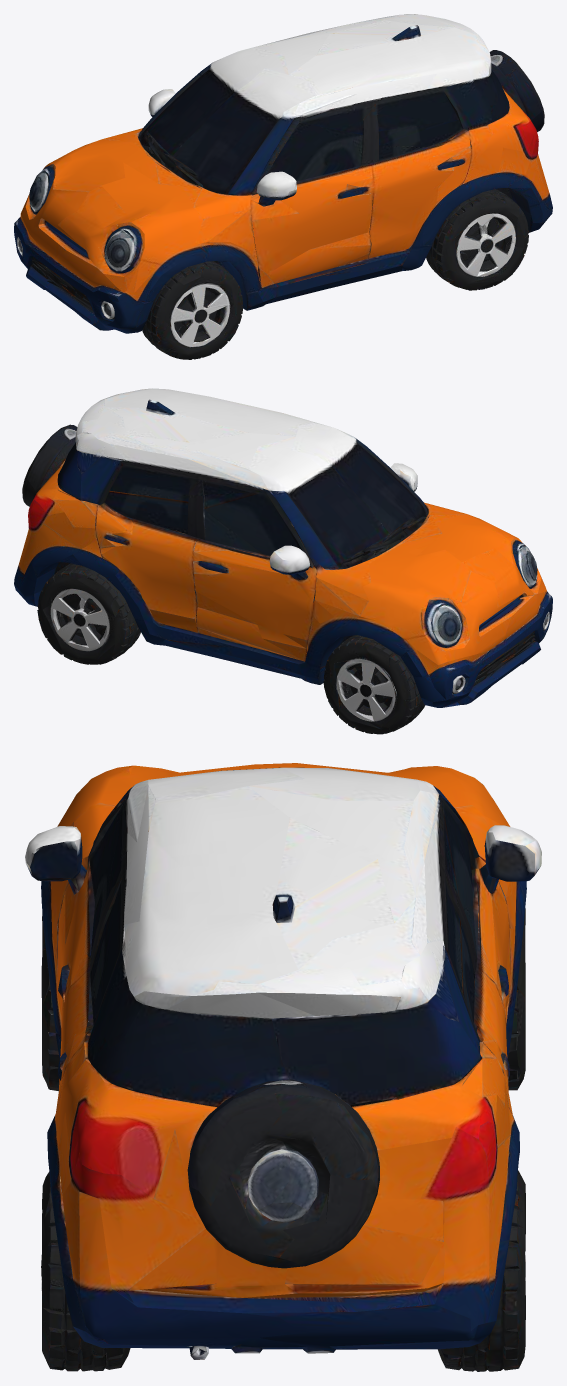
File: car.glb
3 views of the same model, one above another, from view 1: azimuth 30°, elevation 25°; view 2: azimuth 150°, elevation 25°; view 3: azimuth 270°, elevation 25° (orthographic). The views are drawn at different scales.
Bounding box in the file's own units: 1.9 × 0.86 × 0.899.
Materials: 1 (1 with a texture image).
